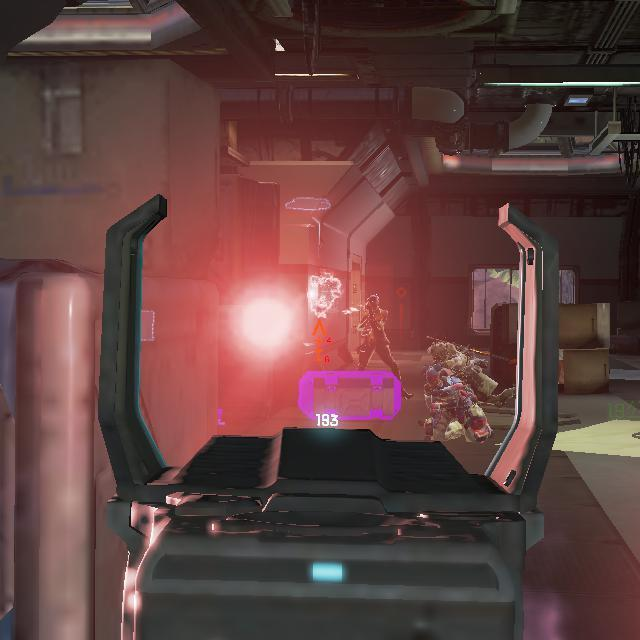avatar: (421, 337, 500, 446), (353, 292, 393, 370)
